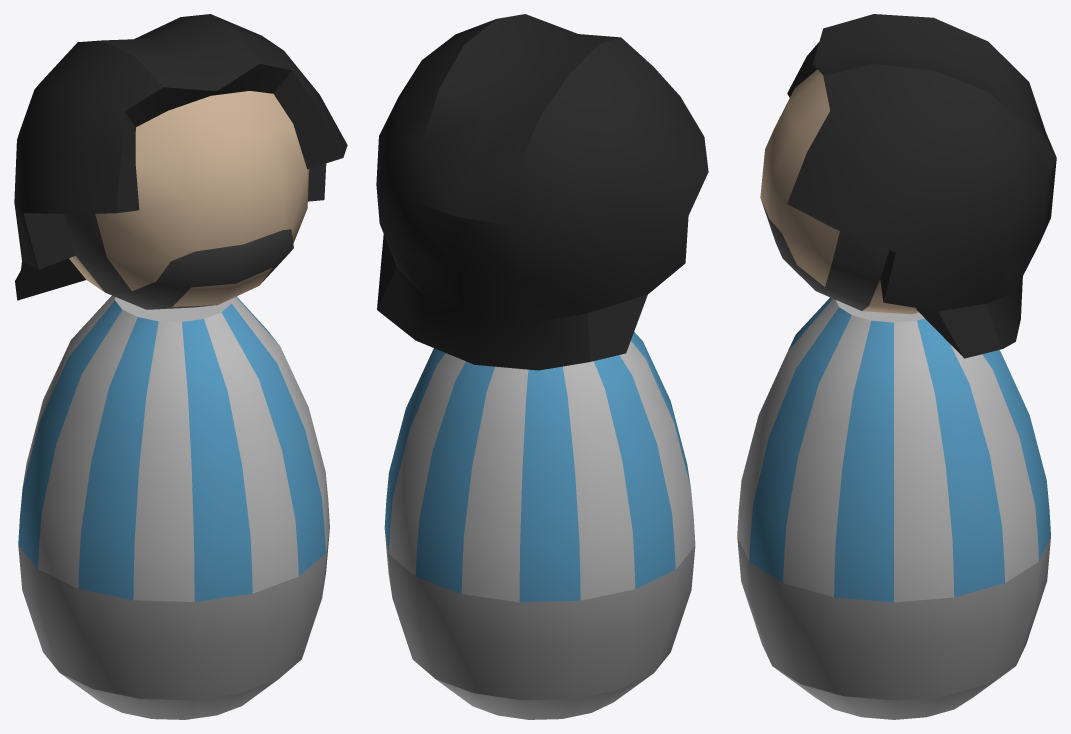
Rendered from Maradona 1.fbx.
3 views of the same model, side by side, from view 1: azimuth 30°, elevation 25°; view 2: azimuth 150°, elevation 25°; view 3: azimuth 270°, elevation 25° (orthographic).
Parts seen in each view (by area): view 1: Cylinder.049; view 2: Cylinder.049; view 3: Cylinder.049.
Boxes of the visible parts, x1,y1,x2,y2 form: Cylinder.049: (14,14,347,719); Cylinder.049: (376,14,708,719); Cylinder.049: (737,14,1056,719).
Bounding box in the file's own units: 0.8543 × 1.8 × 0.7784.
